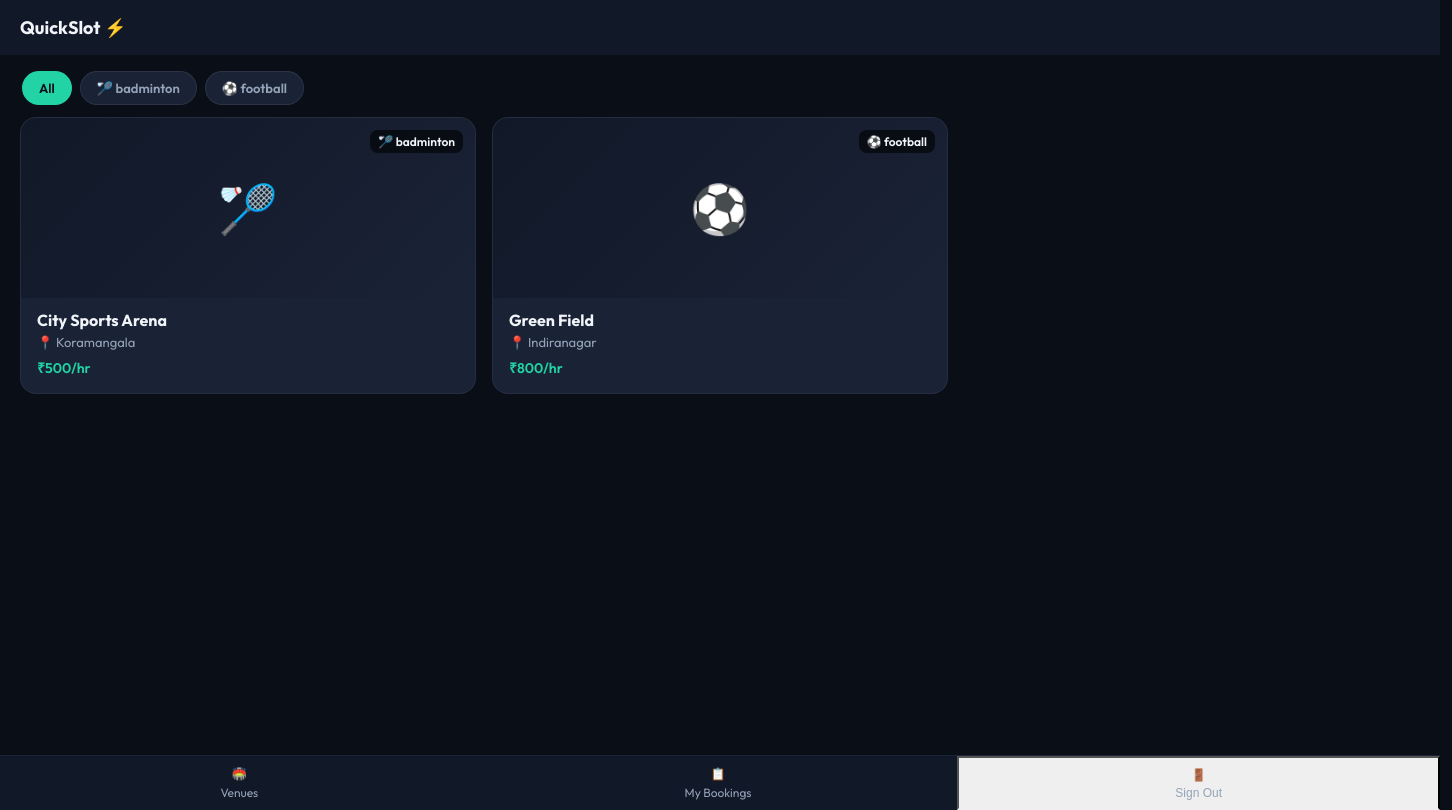
Test case: VenueListPage › switching back to "All" shows all venues
Click the tab "🏸 badminton" at (138, 88), box [80,71,197,105]
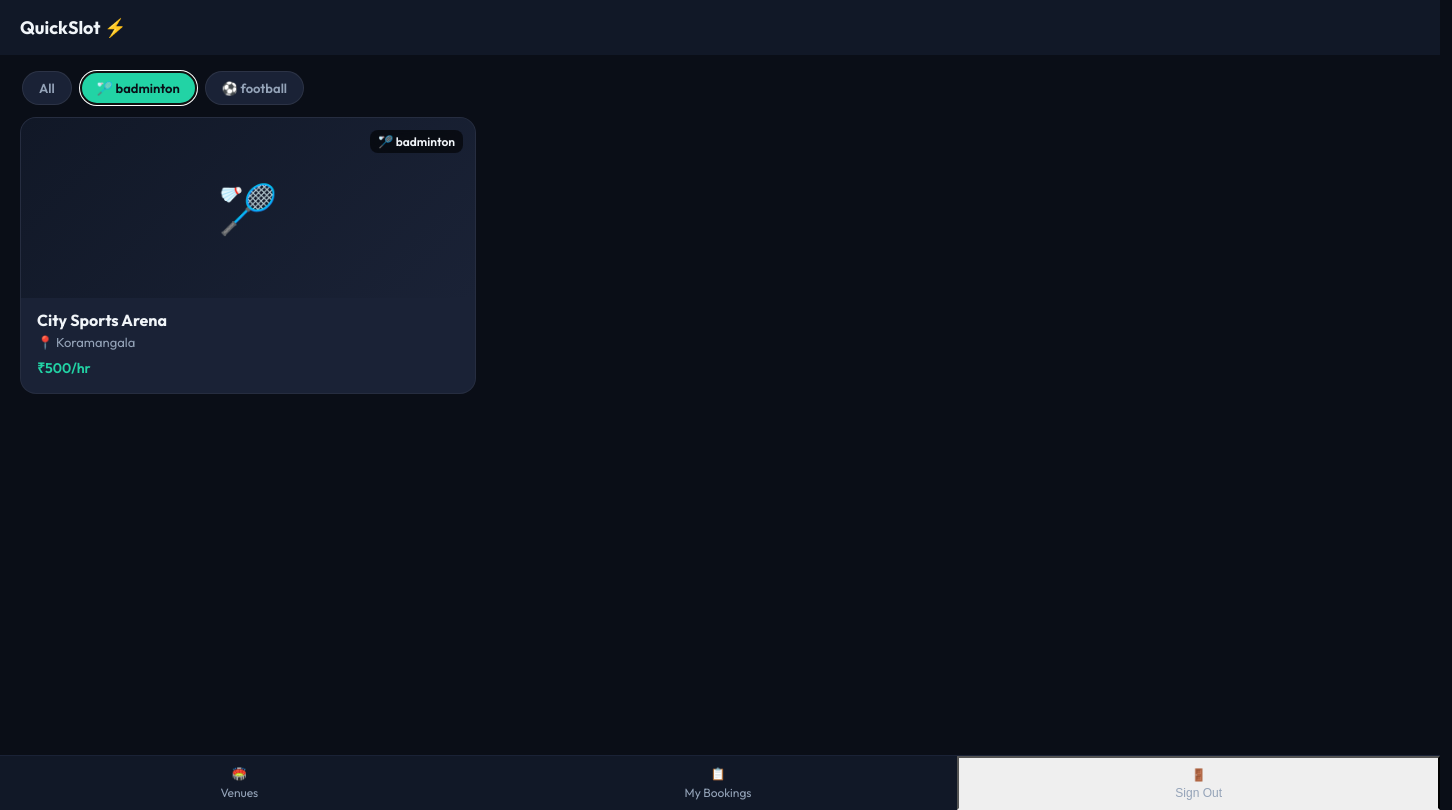
Click the tab "All" at (47, 88), box [22,71,72,105]
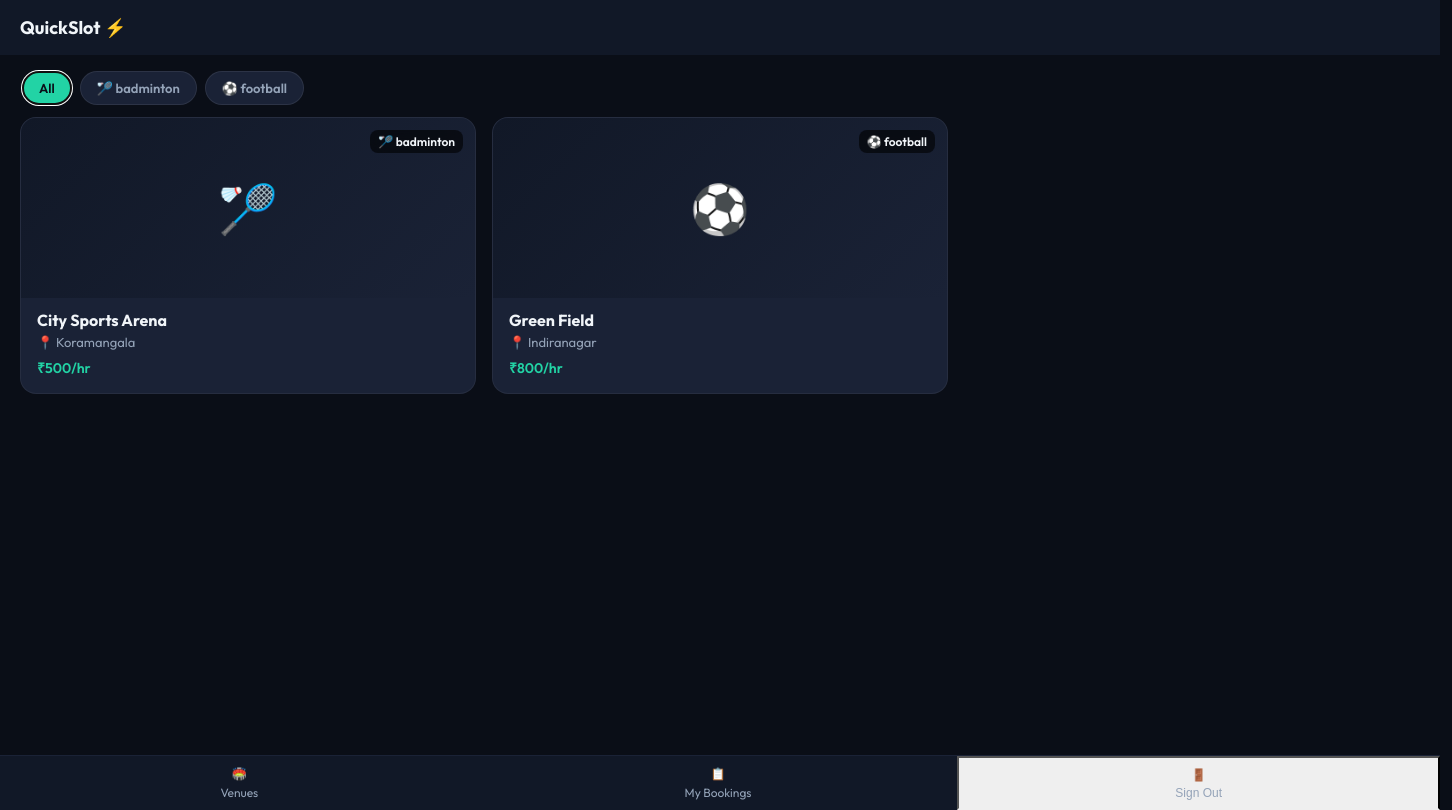
Expected: the text "City Sports Arena" is shown, [37,310,167,330]
Result: the text "Green Field" is shown at [509,310,594,330]
